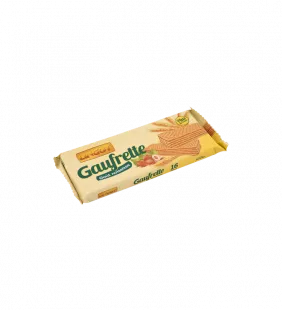LINGOT: (44, 99, 237, 213)
